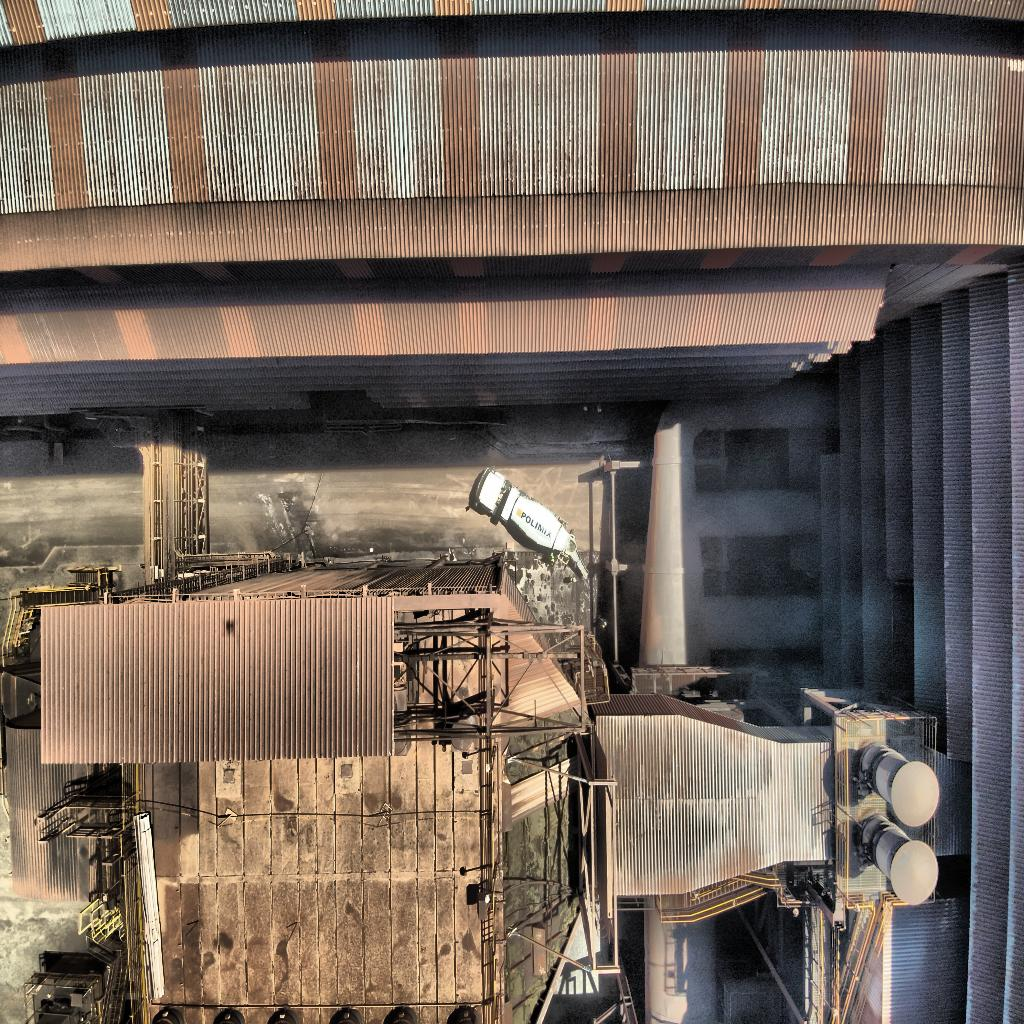Failures: (497, 797, 590, 1024), (499, 700, 596, 790)
